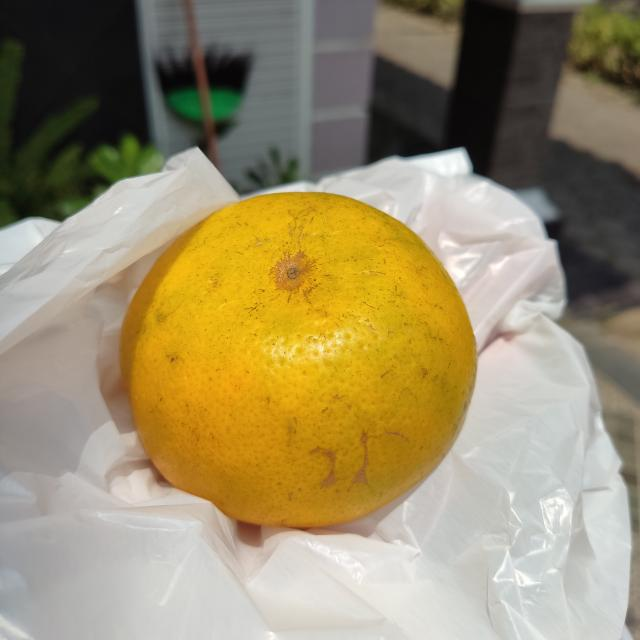orange: (120, 187, 478, 531)
